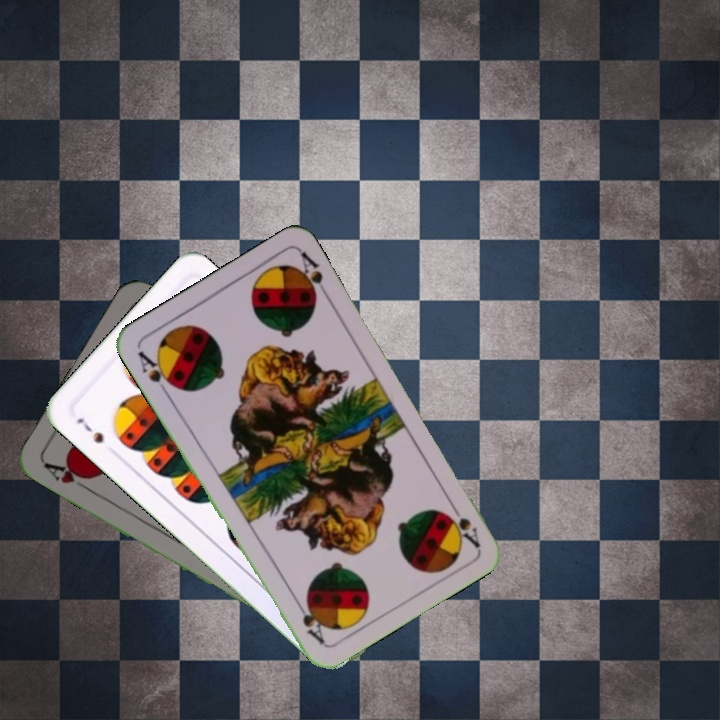HA: (40, 458, 94, 495)
S7: (73, 413, 106, 446)
SA: (133, 346, 180, 399), (443, 497, 483, 550)
